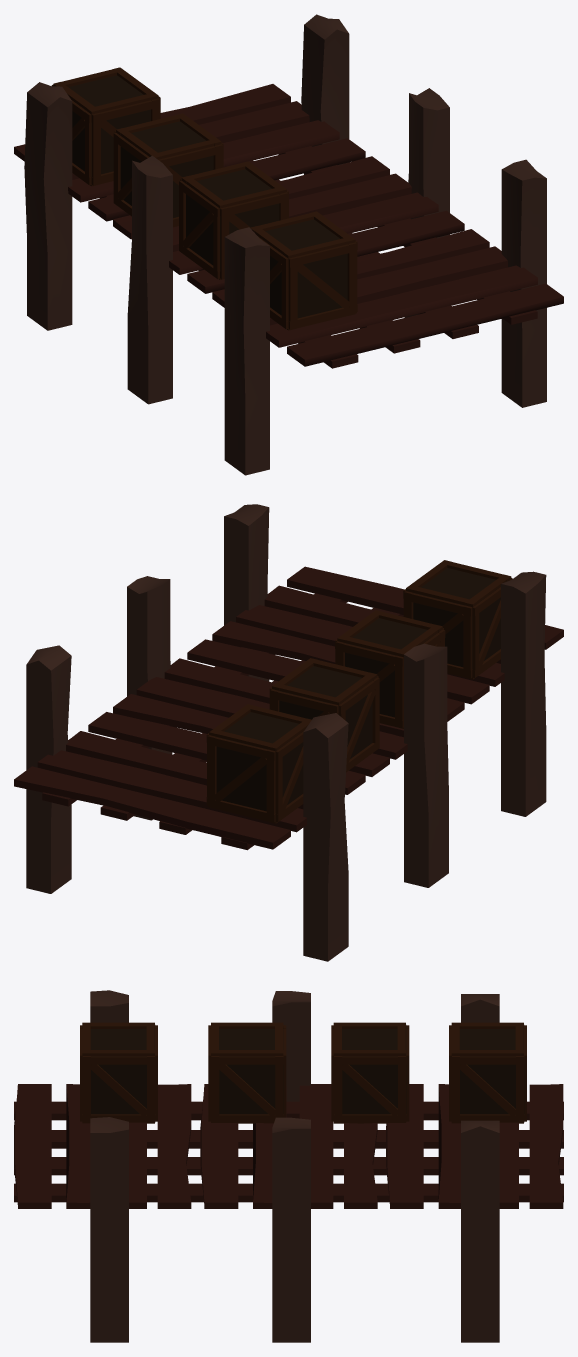
Rendered from dock.fbx.
The picture shows the model from 3 angles, top to bottom: view 1: azimuth 30°, elevation 25°; view 2: azimuth 150°, elevation 25°; view 3: azimuth 270°, elevation 25°; orthographic projection. The views are drawn at different scales.
Parts seen in each view (by area): view 1: Side Pillars, Main Walkway, Crate, Crate001, Crate003, Crate002, Under Supports; view 2: Side Pillars, Main Walkway, Crate003, Crate, Crate002, Crate001, Under Supports; view 3: Main Walkway, Side Pillars, Crate002, Crate001, Crate003, Crate, Under Supports.
Boxes of the visible parts, x1,y1,x2,y2 form: Side Pillars: (24,14,546,475); Main Walkway: (14,84,563,366); Crate: (250,211,357,330); Crate001: (179,161,288,279); Crate003: (51,67,160,186); Crate002: (113,113,223,227); Under Supports: (99,128,537,368); Side Pillars: (26,504,546,961); Main Walkway: (14,566,563,849); Crate003: (206,704,311,823); Crate: (403,560,512,679); Crate002: (269,658,379,772); Crate001: (335,610,445,728); Under Supports: (42,593,403,850); Main Walkway: (14,1084,563,1208); Side Pillars: (90,990,499,1342); Crate002: (331,1022,409,1123); Crate001: (208,1022,286,1123); Crate003: (449,1022,526,1123); Crate: (80,1022,157,1123); Under Supports: (14,1101,563,1202).
Bounding box in the file's own units: 138 × 99.64 × 230.
